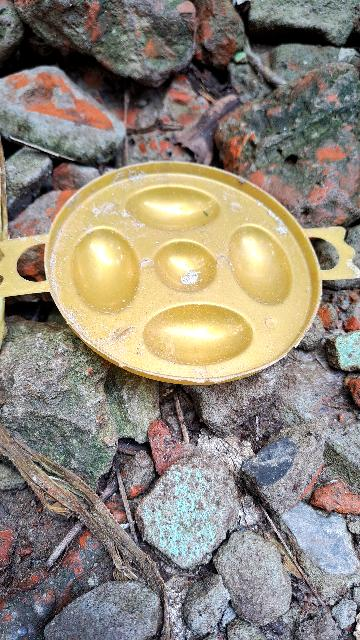hardplastic: (52, 159, 342, 382)
